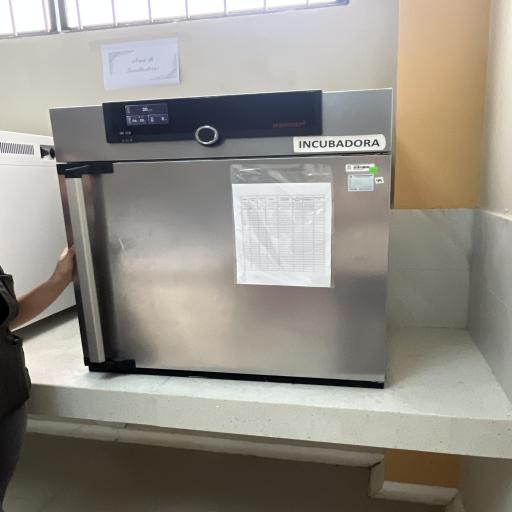Incubadora: (42, 85, 418, 403)
